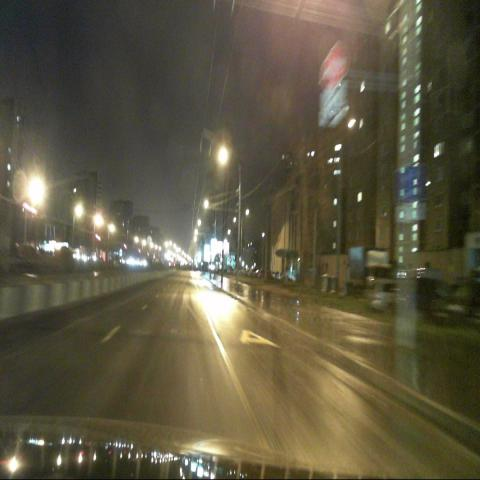3_1: (329, 42, 349, 79)
